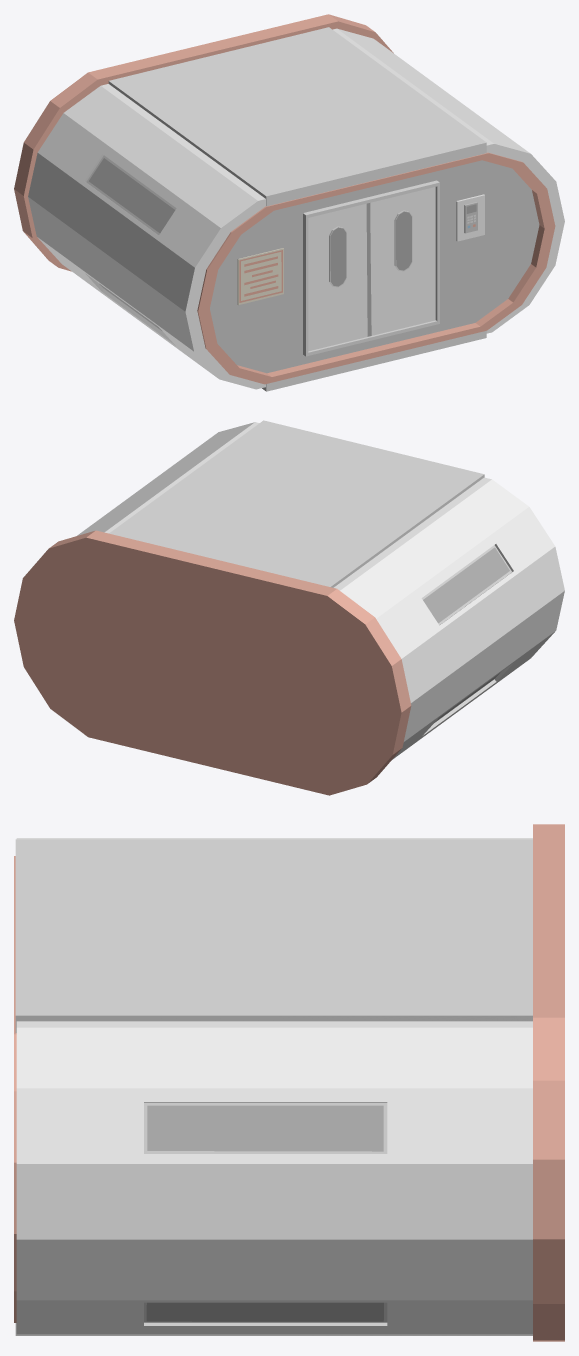
3 views of the same model, one above another, from view 1: azimuth 30°, elevation 25°; view 2: azimuth 150°, elevation 25°; view 3: azimuth 270°, elevation 25° (orthographic). The views are drawn at different scales.
Visible parts, largest first — view 1: Cylinder_8; view 2: Cylinder_8; view 3: Cylinder_8.
Part boxes in pixels (box(x1,y1,x2,y2)): Cylinder_8: box(14, 14, 564, 391); Cylinder_8: box(14, 420, 564, 795); Cylinder_8: box(14, 824, 564, 1341).
Bounding box in the file's own units: 601 × 296 × 452.
